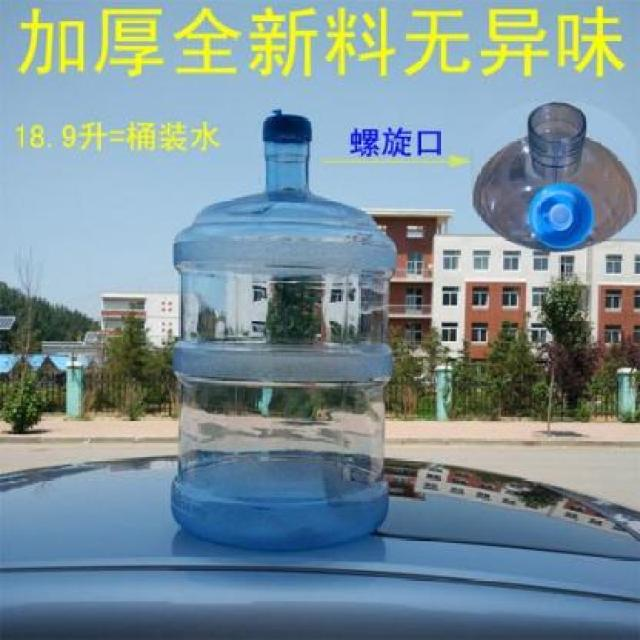coolerbottle: (169, 110, 402, 552)
